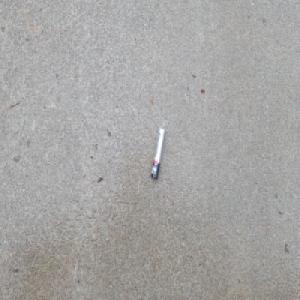Battery: (150, 127, 164, 181)
